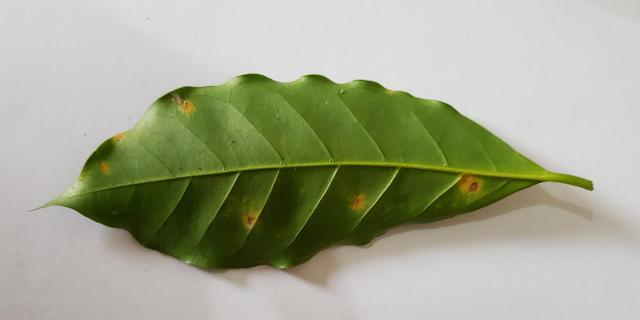miner: (458, 173, 483, 194), (170, 93, 195, 113), (242, 208, 261, 230), (351, 194, 366, 211), (111, 132, 126, 141), (100, 162, 109, 173)
